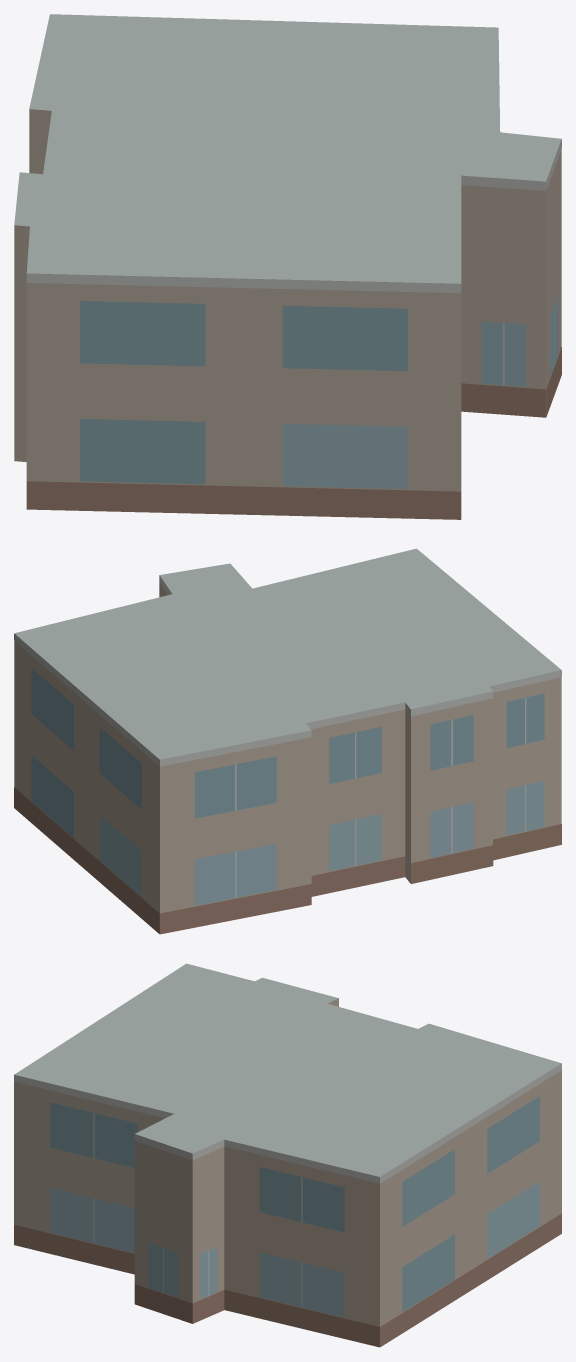
The model's file is survey-upis-32679325.glb.
3 renders of one model, top to bottom at view 1: azimuth 30°, elevation 25°; view 2: azimuth 150°, elevation 25°; view 3: azimuth 270°, elevation 25°, orthographic. The views are drawn at different scales.
Parts seen in each view (by area): view 1: survey-upis-32679325.tmp; view 2: survey-upis-32679325.tmp; view 3: survey-upis-32679325.tmp.
Boxes of the visible parts, <box> form: survey-upis-32679325.tmp: <box>14,14,561,519</box>; survey-upis-32679325.tmp: <box>14,548,561,934</box>; survey-upis-32679325.tmp: <box>14,963,561,1347</box>.
Bounding box in the file's own units: 16.4 × 6.1 × 17.78.
